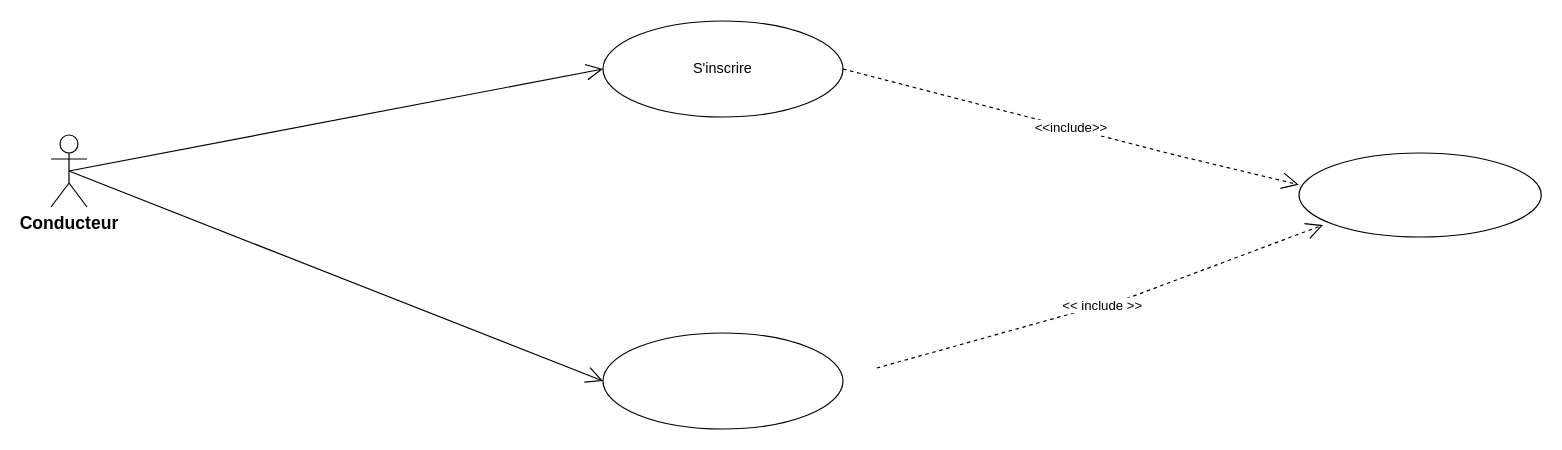
Image size: 1562x450. Some labels were removed from this diagram. The shapes that lost their labels are listed below. From the top down, each one's box as (x1, y1, x2, y2) in pixels, then its label:
(1298, 152, 1541, 237): S’authentifier
(602, 332, 843, 429): Consulter dashboard
